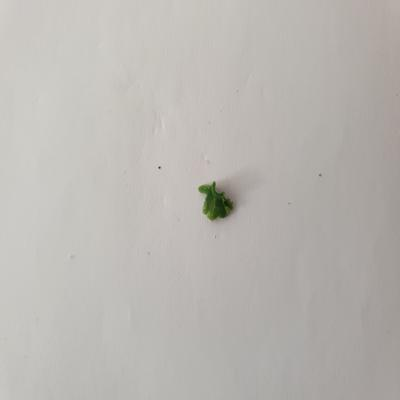plastic: (195, 178, 238, 229)
